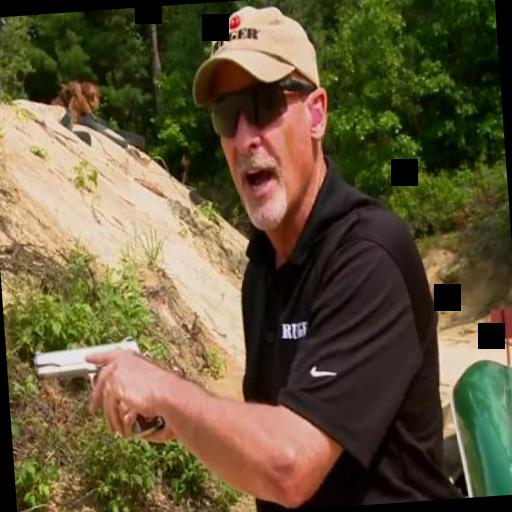Handgun: (26, 332, 165, 444)
